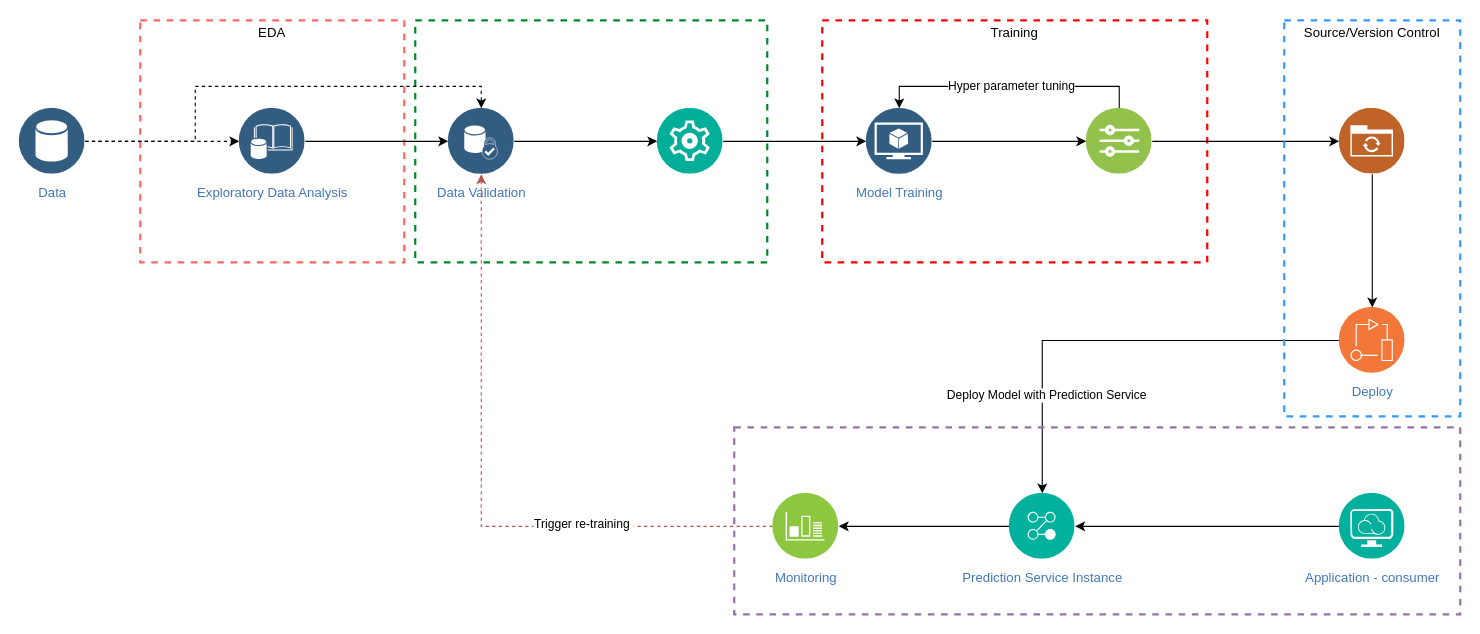
This 1480x634 diagram has some shape labels left out. Each missing label, with the box of its shape:
Data pre-processing: (657, 108, 723, 174)
Data Preparation: (414, 19, 768, 263)
Model Validation: (1086, 108, 1152, 174)
Running Environment: (733, 426, 1461, 615)
Versioning and packaging: (1339, 108, 1405, 174)
